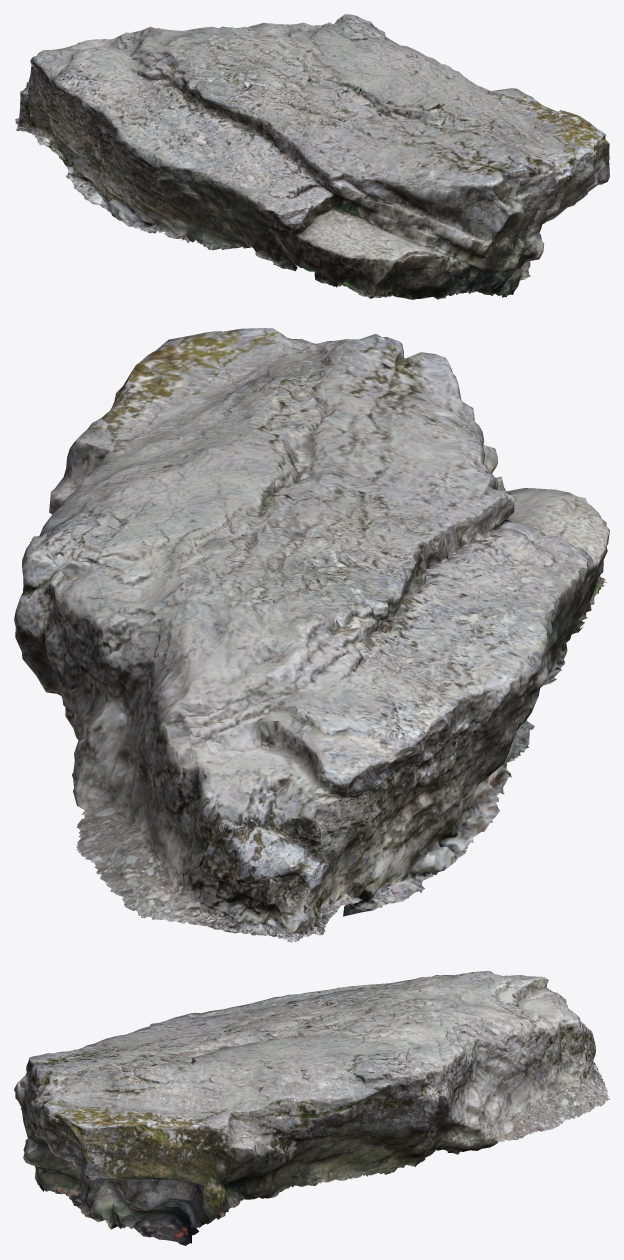
File: big_flat_rock.glb
The picture shows the model from 3 angles, top to bottom: view 1: azimuth 30°, elevation 25°; view 2: azimuth 150°, elevation 25°; view 3: azimuth 270°, elevation 25°; orthographic projection. The views are drawn at different scales.
Visible parts, largest first — view 1: Big Flat Rock Photoscan; view 2: Big Flat Rock Photoscan; view 3: Big Flat Rock Photoscan.
Part boxes in pixels (box(x1,y1,x2,y2)): Big Flat Rock Photoscan: box(14, 14, 609, 299); Big Flat Rock Photoscan: box(14, 328, 609, 942); Big Flat Rock Photoscan: box(14, 971, 609, 1245).
Bounding box in the file's own units: 2.65 × 1.17 × 3.91.
Materials: 1 (1 with a texture image).
